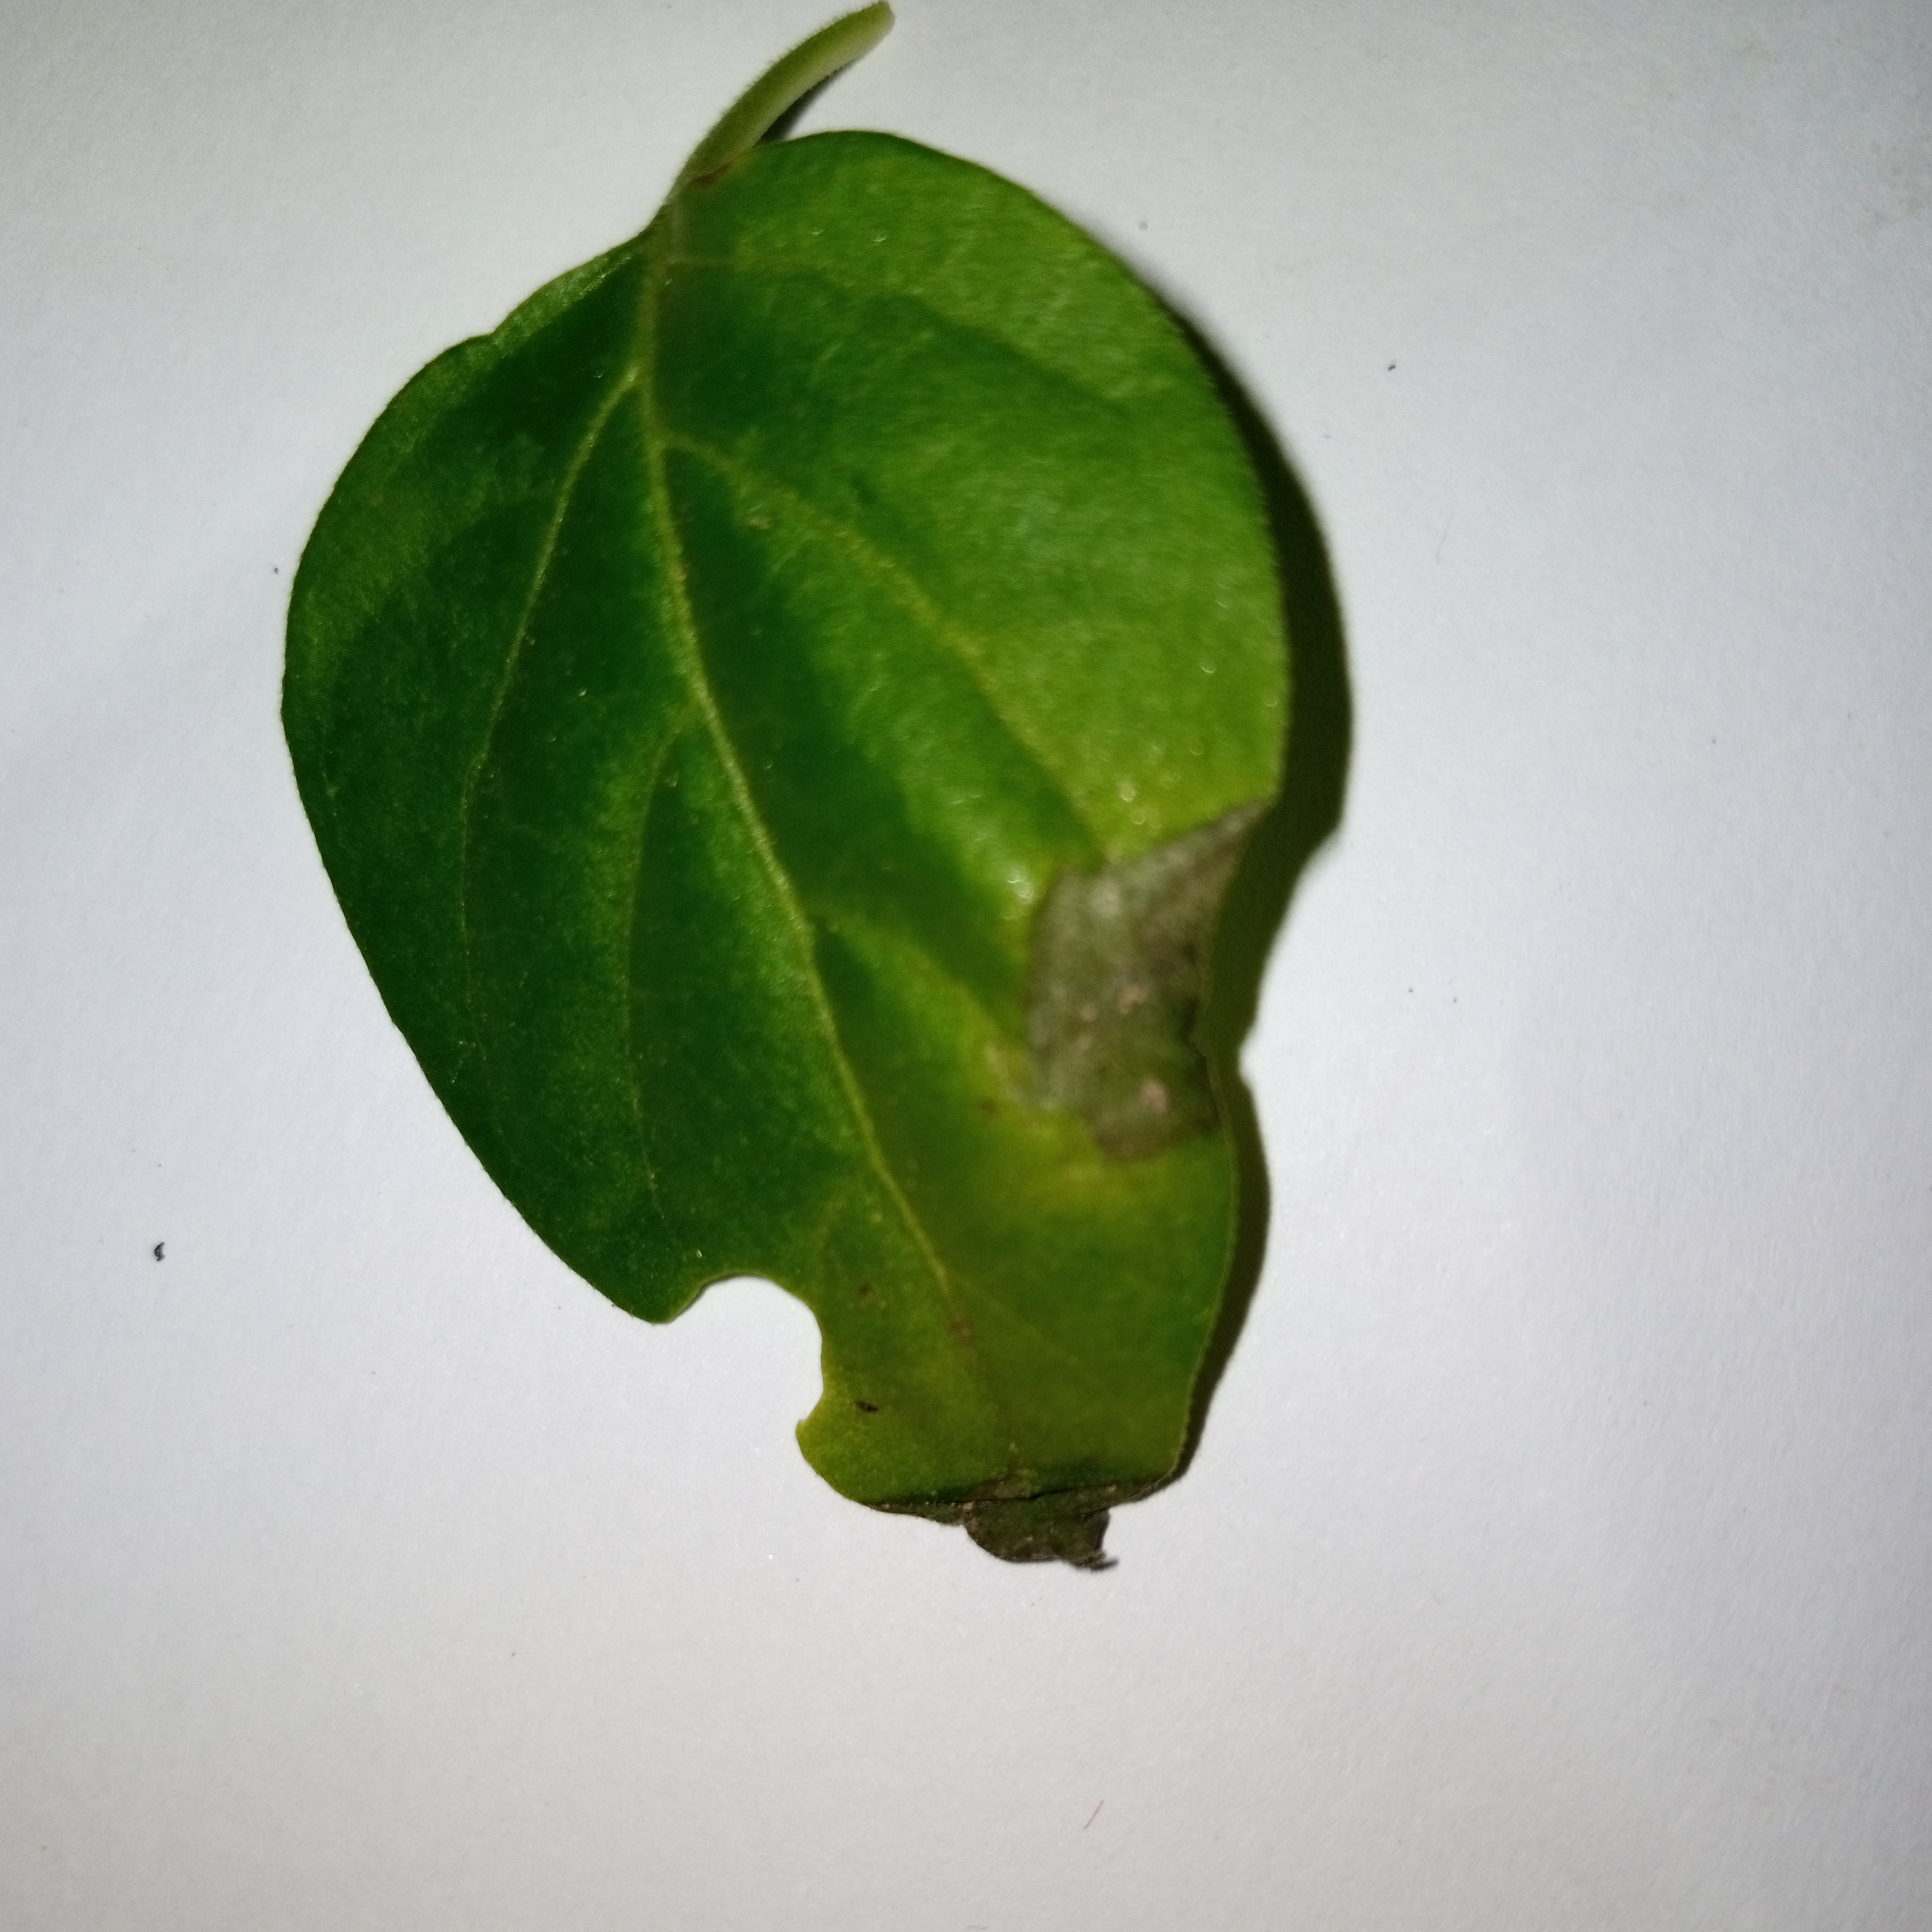Leaf: (260, 69, 1622, 1606)
